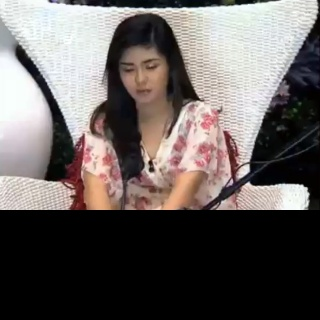without_mask: (119, 43, 168, 104)
